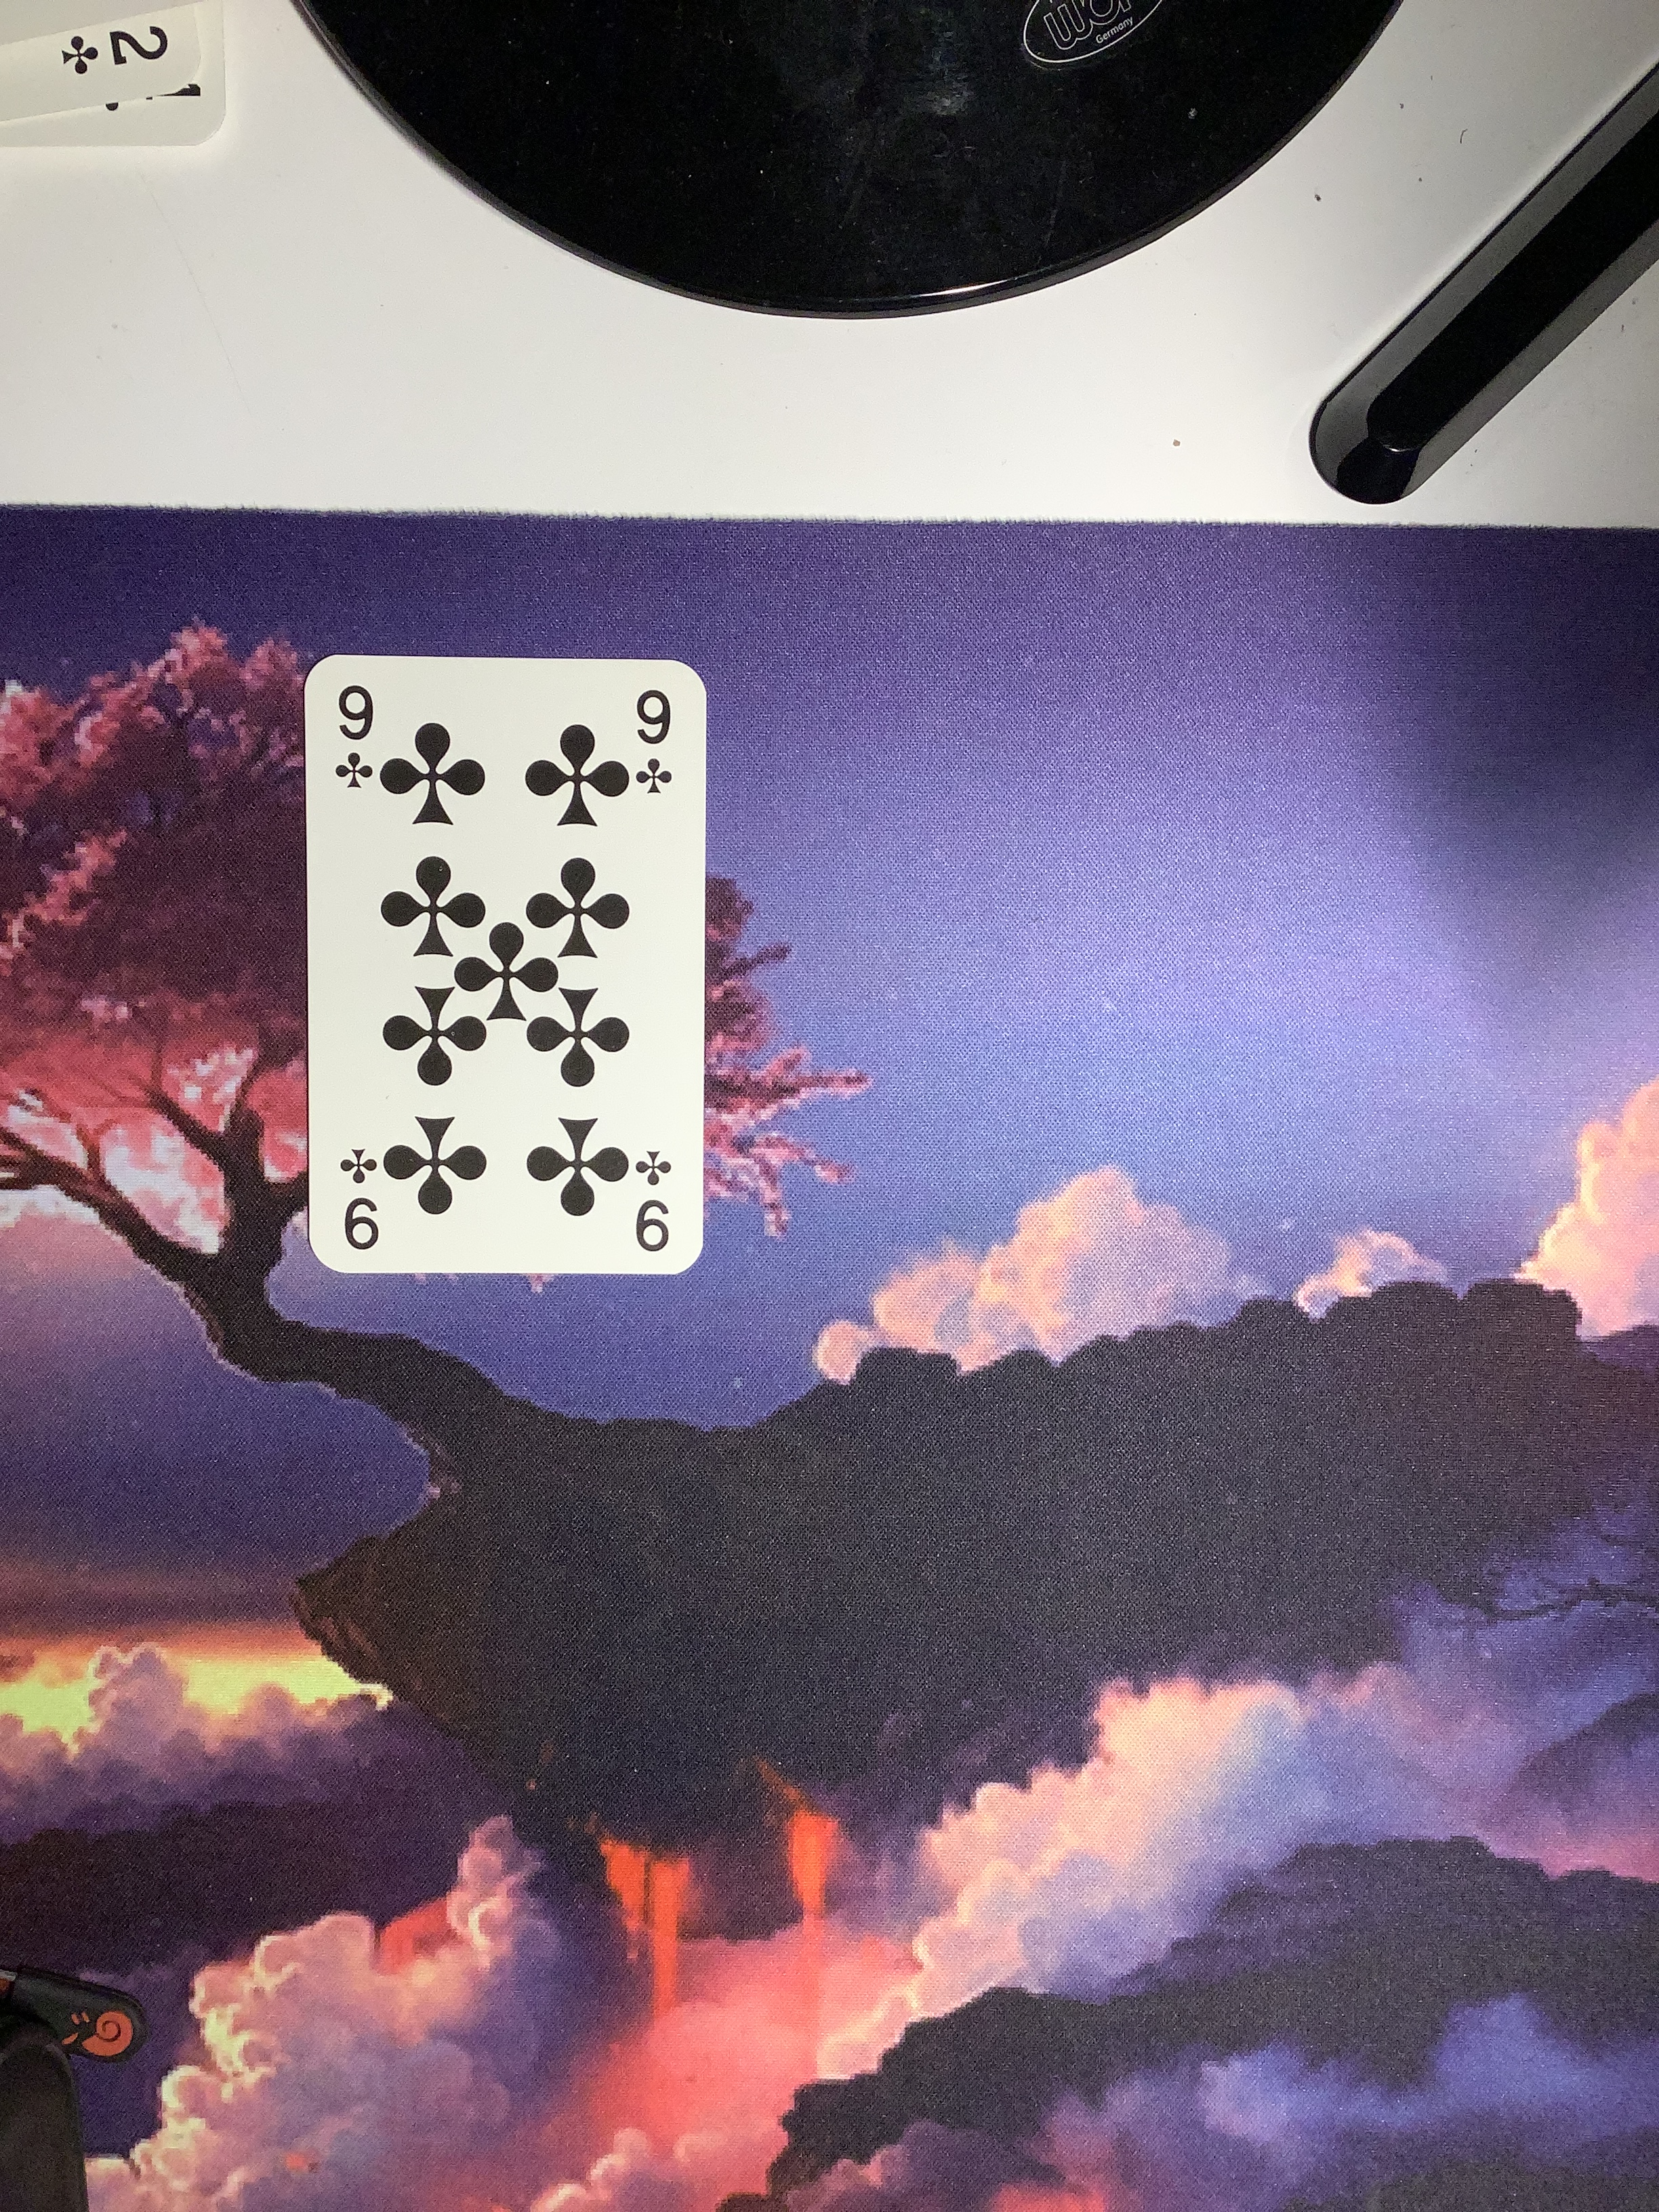♣ 9: (289, 641, 730, 1294)
